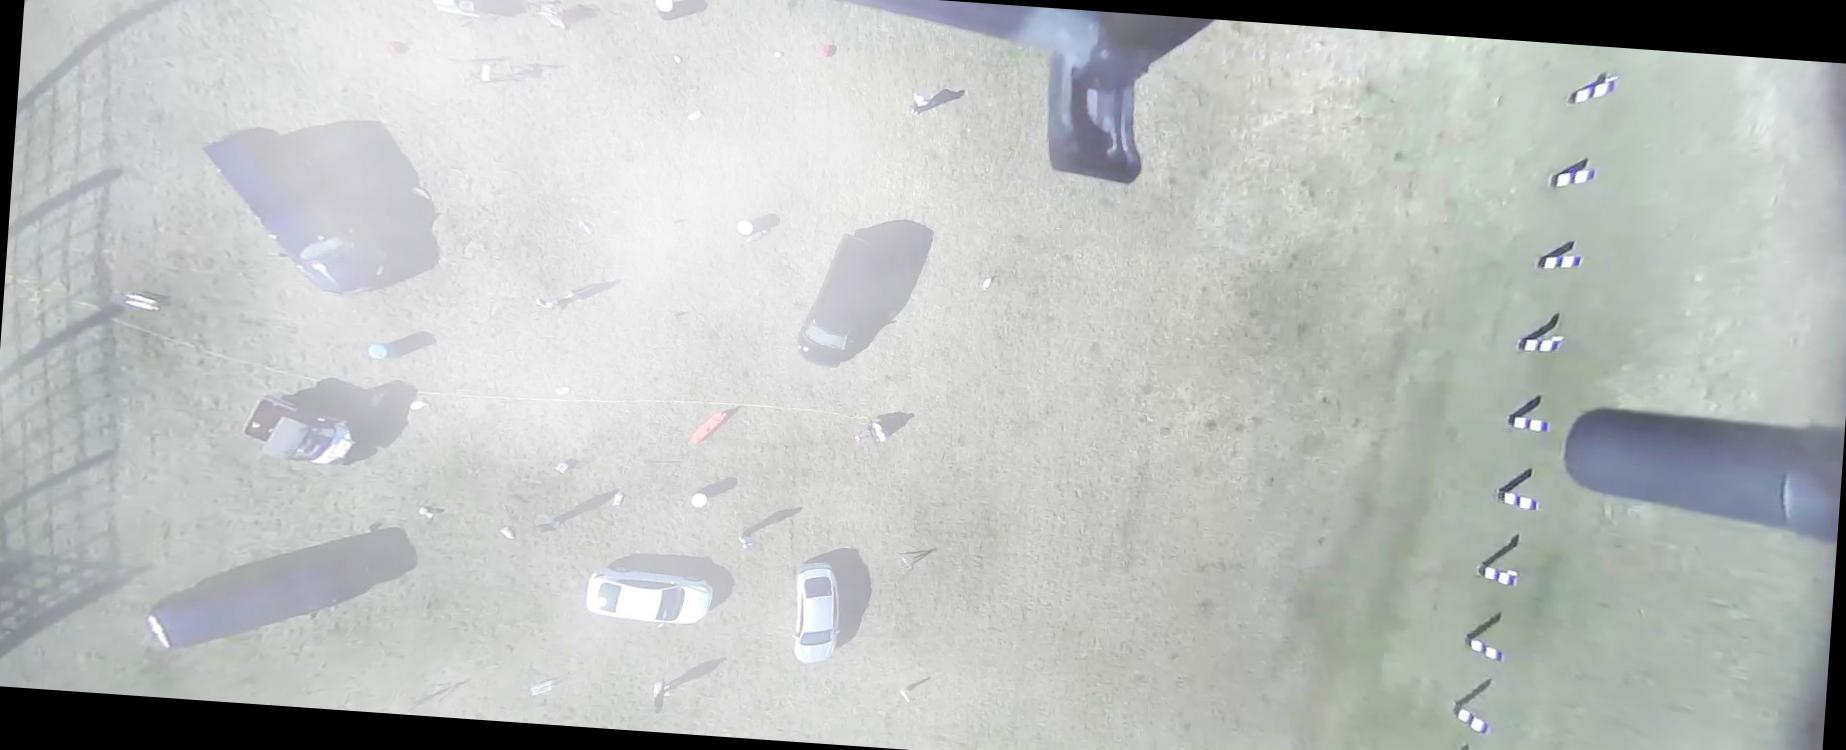vehicle: (192, 122, 397, 297), (141, 532, 373, 663), (796, 230, 881, 370), (582, 563, 715, 632), (239, 392, 359, 467), (785, 559, 844, 666)
